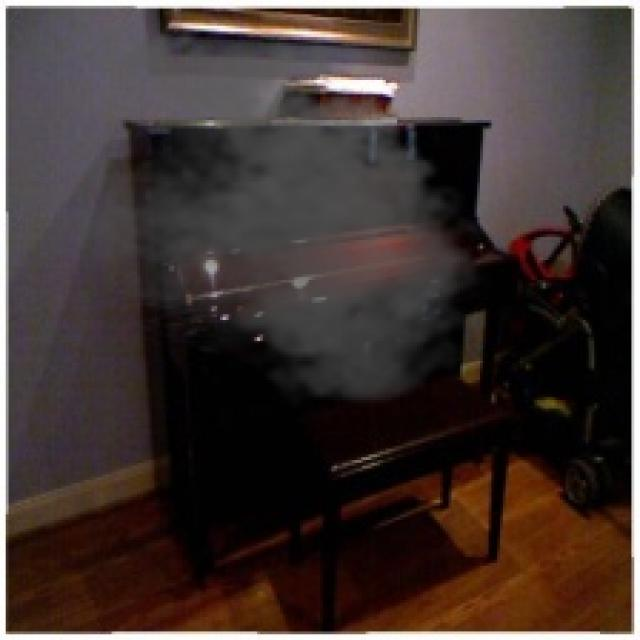smoke: (77, 17, 497, 412)
